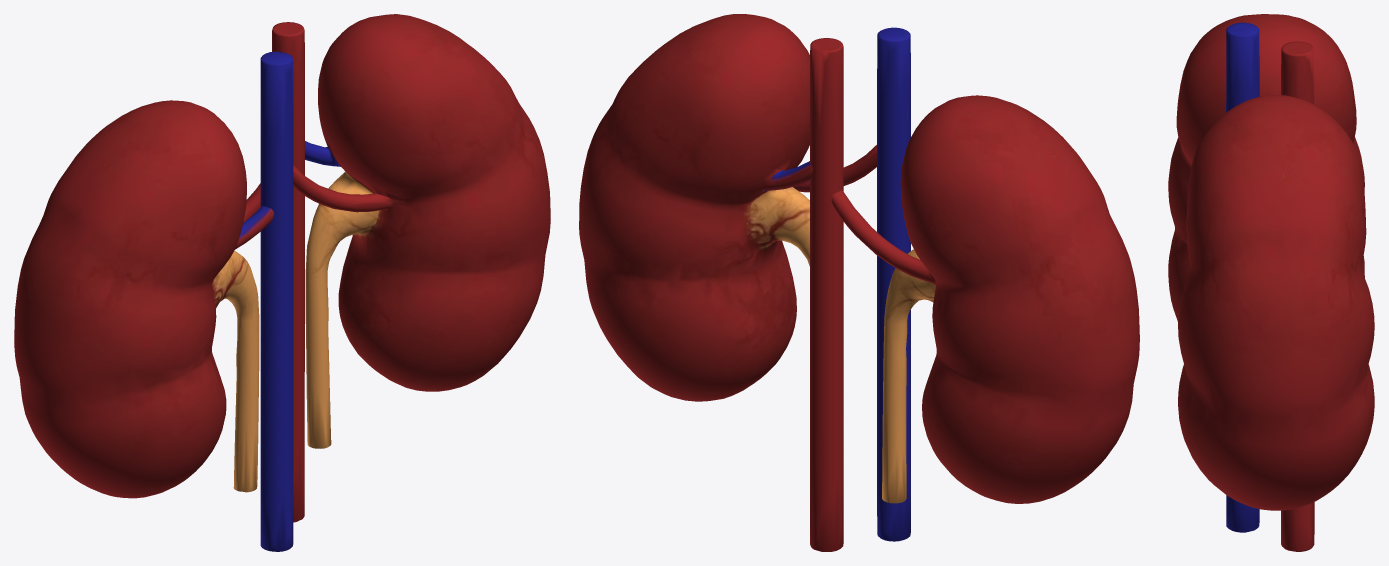
File: PRP_Kidney.glb
3 renders of one model, left to right at view 1: azimuth 30°, elevation 25°; view 2: azimuth 150°, elevation 25°; view 3: azimuth 270°, elevation 25°, orthographic. The views are drawn at different scales.
Visible parts, largest first — view 1: kidney02:kidney03:Group12708_Kidney Tex_0; view 2: kidney02:kidney03:Group12708_Kidney Tex_0; view 3: kidney02:kidney03:Group12708_Kidney Tex_0.
Boxes of the visible parts, <box> form: kidney02:kidney03:Group12708_Kidney Tex_0: <box>14,14,550,551</box>; kidney02:kidney03:Group12708_Kidney Tex_0: <box>579,14,1139,551</box>; kidney02:kidney03:Group12708_Kidney Tex_0: <box>1168,14,1374,551</box>.
Size of the model in its own units: 1.71 by 1.55 by 0.5818.
Materials: 1 (1 with a texture image).
